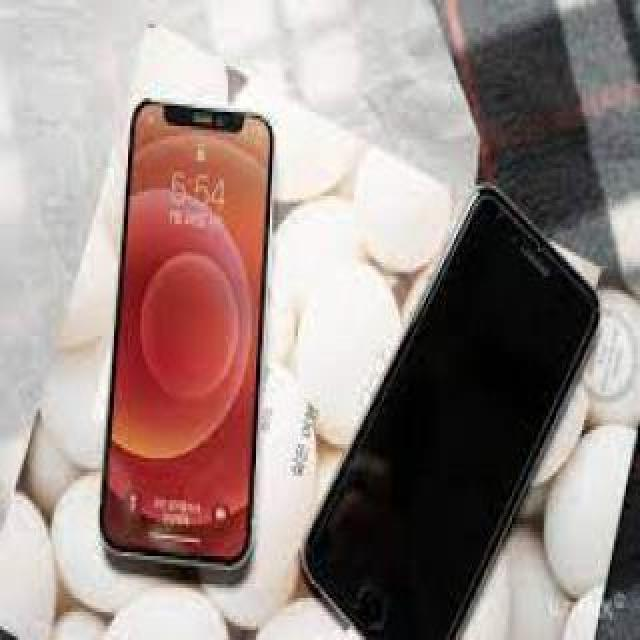smart phone: (290, 152, 605, 633), (103, 52, 257, 580)
